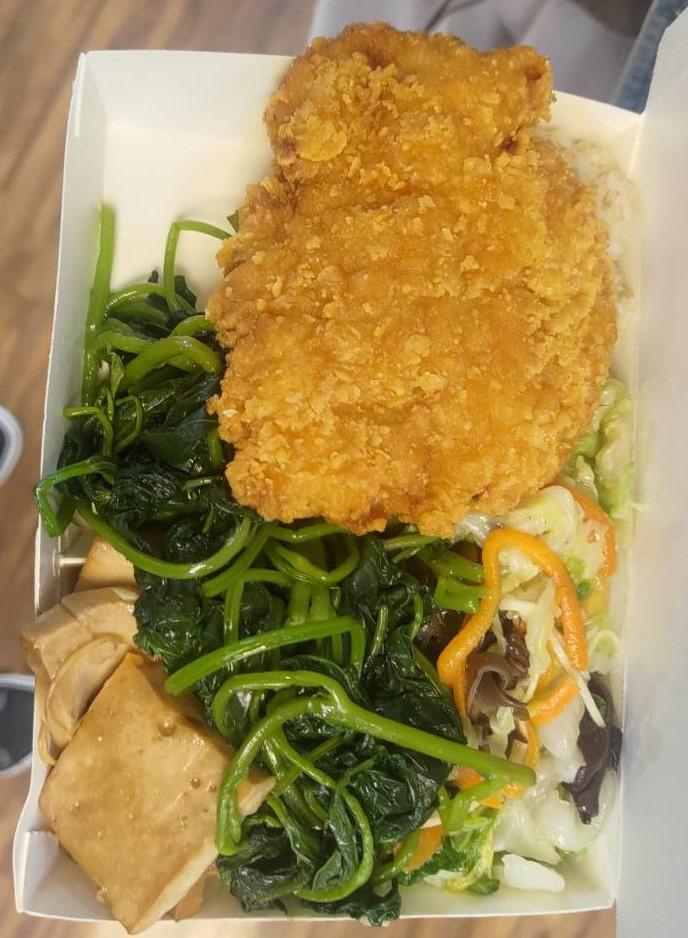big grilled chicken leg: (14, 22, 655, 937)
big herbal chicken leg: (295, 132, 636, 476)
braised fish fillet: (82, 272, 459, 902), (30, 560, 231, 918), (460, 518, 625, 911)
braised pork: (220, 30, 611, 510)
